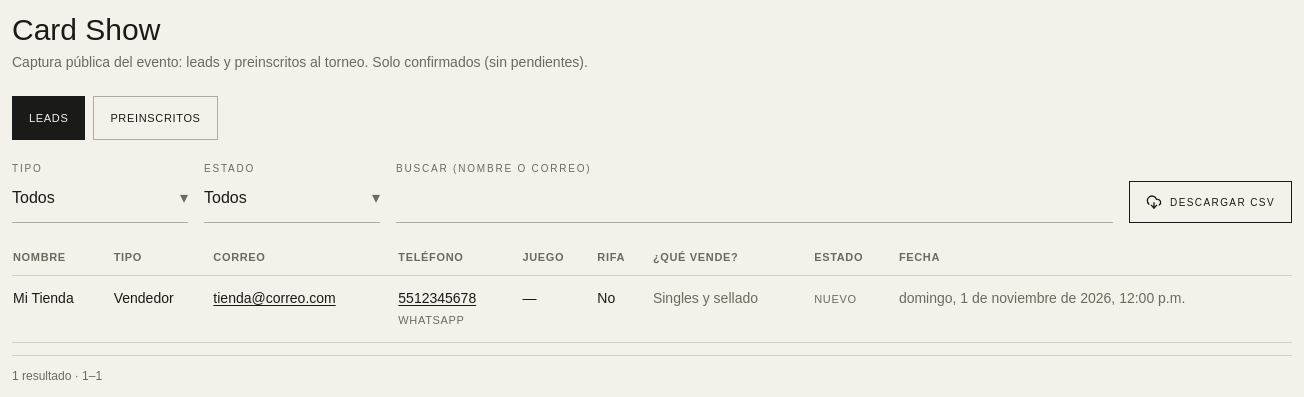
CardShowAdminView › en «Preinscritos», un juego LIGERA muestra Player ID vacío («—»)
Click the tab "Preinscritos" at (156, 118), box left=93, top=96, right=218, bottom=140
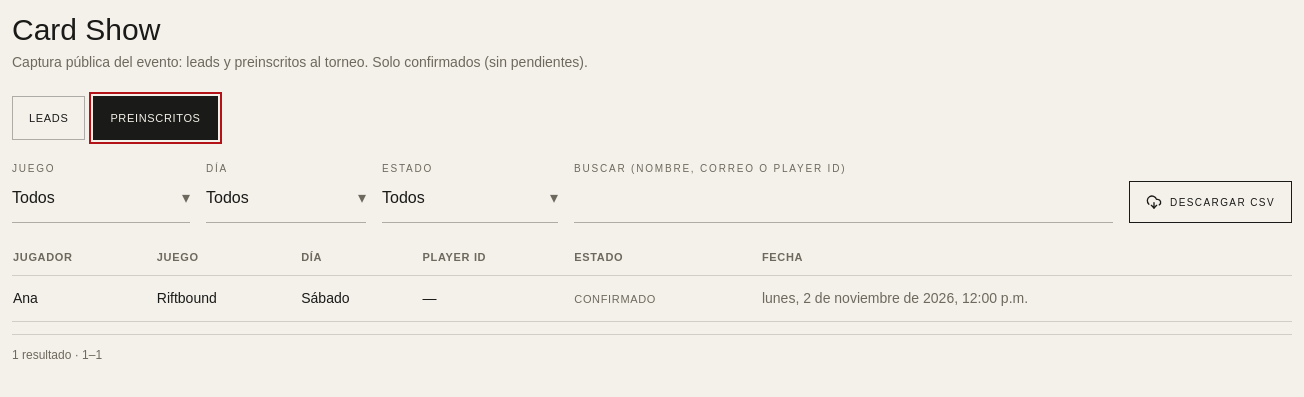
Check: the text "Ana" is shown, box left=12, top=276, right=156, bottom=322
Check: the text "Riftbound" is shown, box left=156, top=276, right=300, bottom=322
Check: the table with test id "cs-players-table" shows "—", box left=423, top=290, right=437, bottom=306
